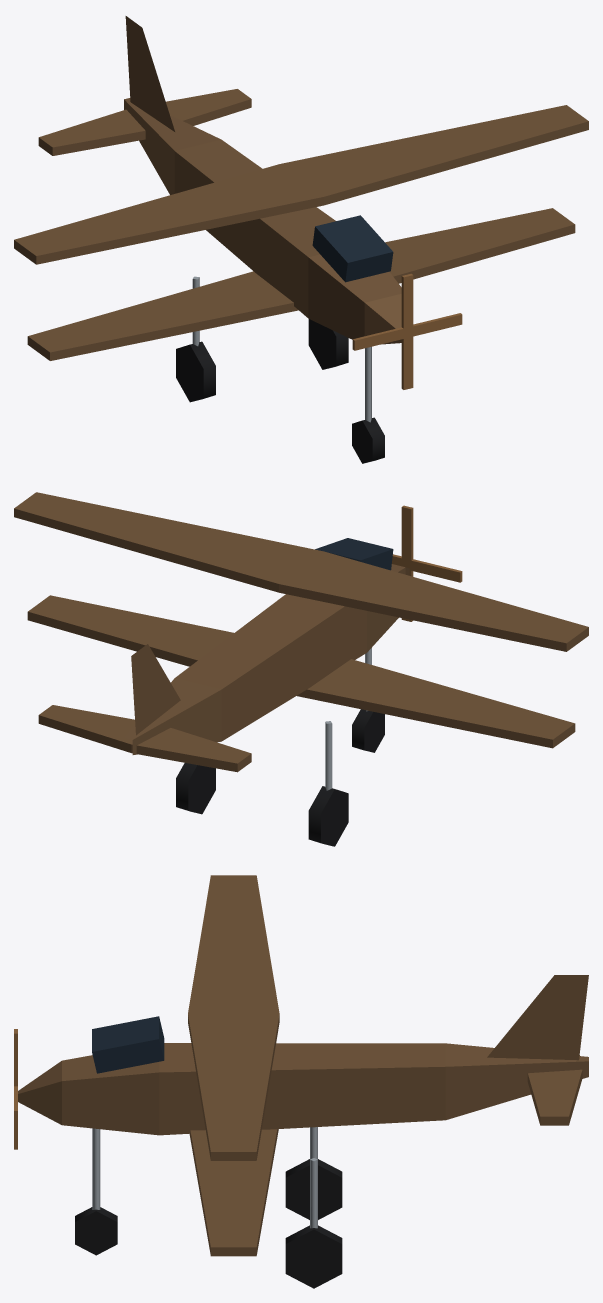
Rendered from veh_air_fighter_a05_lod2.glb.
The picture shows the model from 3 angles, top to bottom: view 1: azimuth 30°, elevation 25°; view 2: azimuth 150°, elevation 25°; view 3: azimuth 270°, elevation 25°; orthographic projection. The views are drawn at different scales.
Visible parts, largest first — view 1: body, propeller_0, gear_1, gear_0, gear_2; view 2: body, gear_1, gear_2, propeller_0, gear_0; view 3: body, gear_2, gear_1, gear_0.
Part boxes in pixels (x1,y1,x2,y2): body: [14, 16, 588, 360]; propeller_0: [352, 273, 462, 389]; gear_1: [176, 276, 215, 402]; gear_0: [352, 346, 384, 463]; gear_2: [308, 319, 348, 369]; body: [14, 492, 588, 772]; gear_1: [308, 721, 348, 846]; gear_2: [176, 763, 215, 814]; propeller_0: [392, 505, 462, 621]; gear_0: [352, 648, 384, 752]; body: [18, 875, 588, 1256]; gear_2: [285, 1158, 342, 1288]; gear_1: [285, 1127, 342, 1219]; gear_0: [75, 1128, 117, 1255].
Size of the model in its own units: 8 by 3.76 by 7.03.
